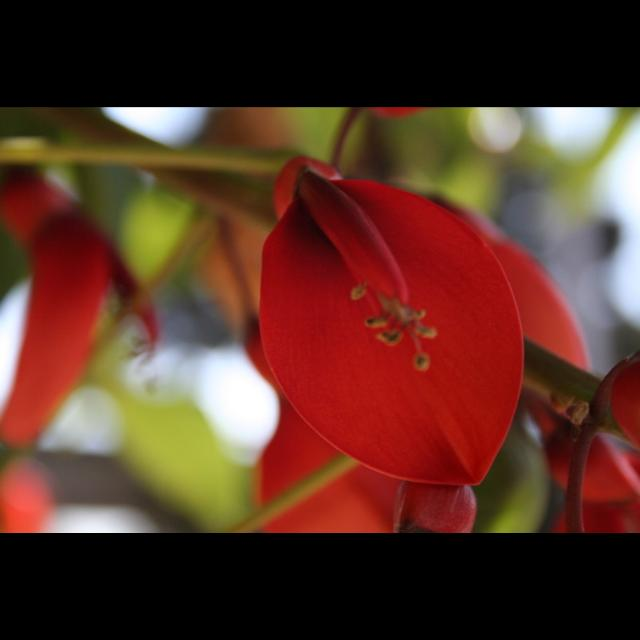Flower: (292, 177, 528, 489), (528, 352, 640, 532)
